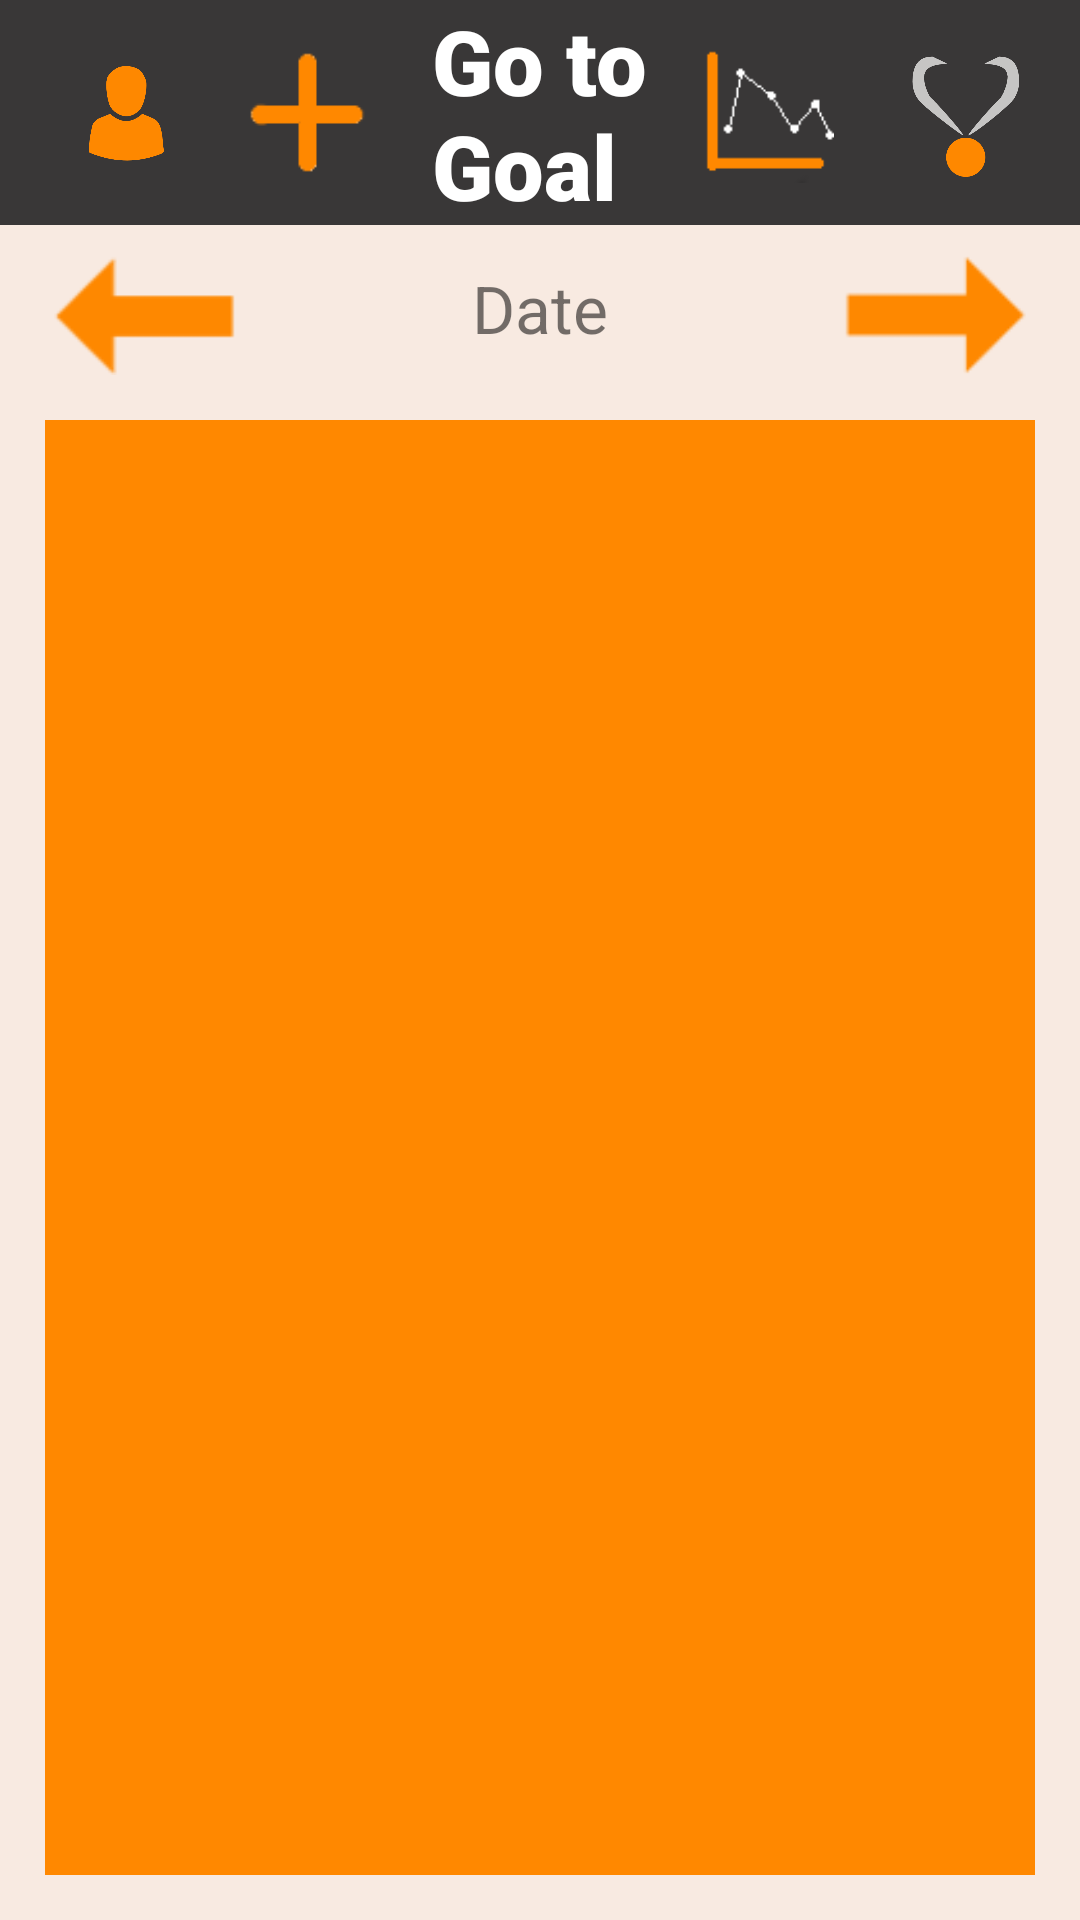

Icon bounding boxes for this 1080 × 1920 phone screenshot, format (x1=x1, y1=y1, x2=x2, y2=y2):
graph: (x1=707, y1=51, x2=834, y2=171)
left arrow: (x1=56, y1=259, x2=234, y2=374)
medal: (x1=912, y1=56, x2=1019, y2=177)
plus: (x1=250, y1=53, x2=364, y2=172)
profile: (x1=89, y1=66, x2=164, y2=161)
right arrow: (x1=846, y1=257, x2=1025, y2=373)
